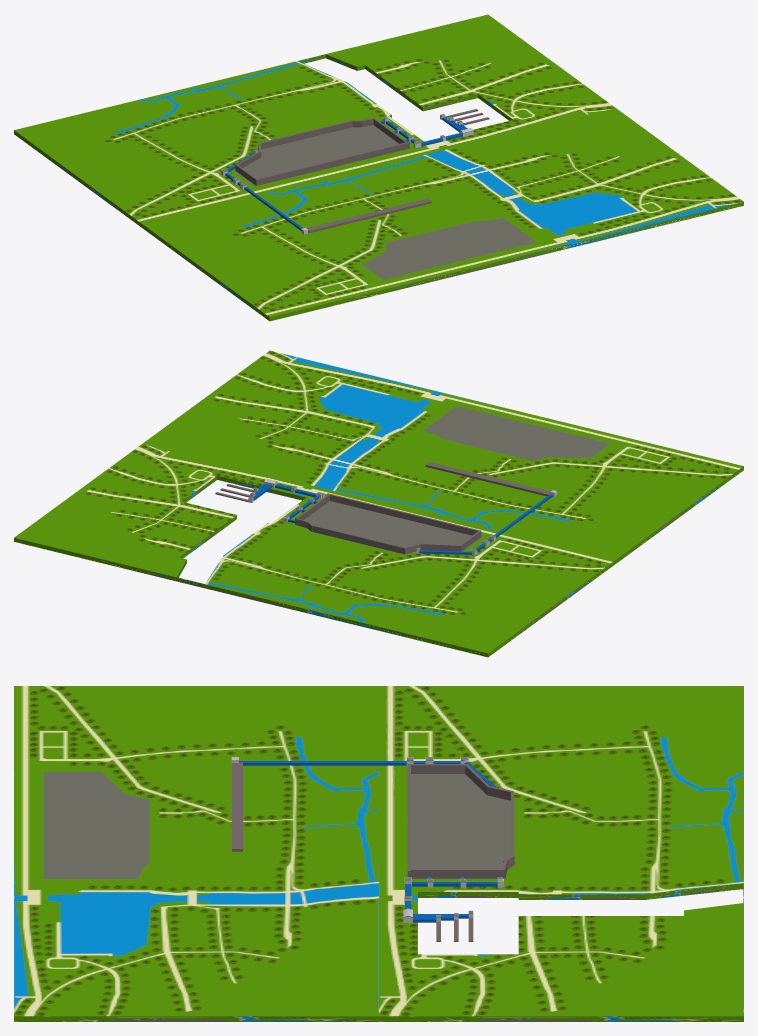
File: map26.fbx
3 renders of one model, top to bottom at view 1: azimuth 30°, elevation 25°; view 2: azimuth 150°, elevation 25°; view 3: azimuth 270°, elevation 25°, orthographic. The views are drawn at different scales.
Visible parts, largest first — view 1: sea, map, wall, house; view 2: sea, map, wall, house; view 3: sea, map, house, wall.
Part boxes in pixels (x1,y1,x2,y2): sea: (142,108,743,321); map: (14,14,615,227); wall: (235,118,409,185); house: (220,109,489,234); sea: (142,350,743,563); map: (14,444,615,657); wall: (295,493,481,554); house: (215,462,557,555); sea: (14,686,378,1021); map: (379,686,743,1021); house: (231,757,503,941); wall: (407,764,514,878).
Bounding box in the file's own units: 244 × 5.04 × 228.
Materials: 8 (2 with a texture image).
